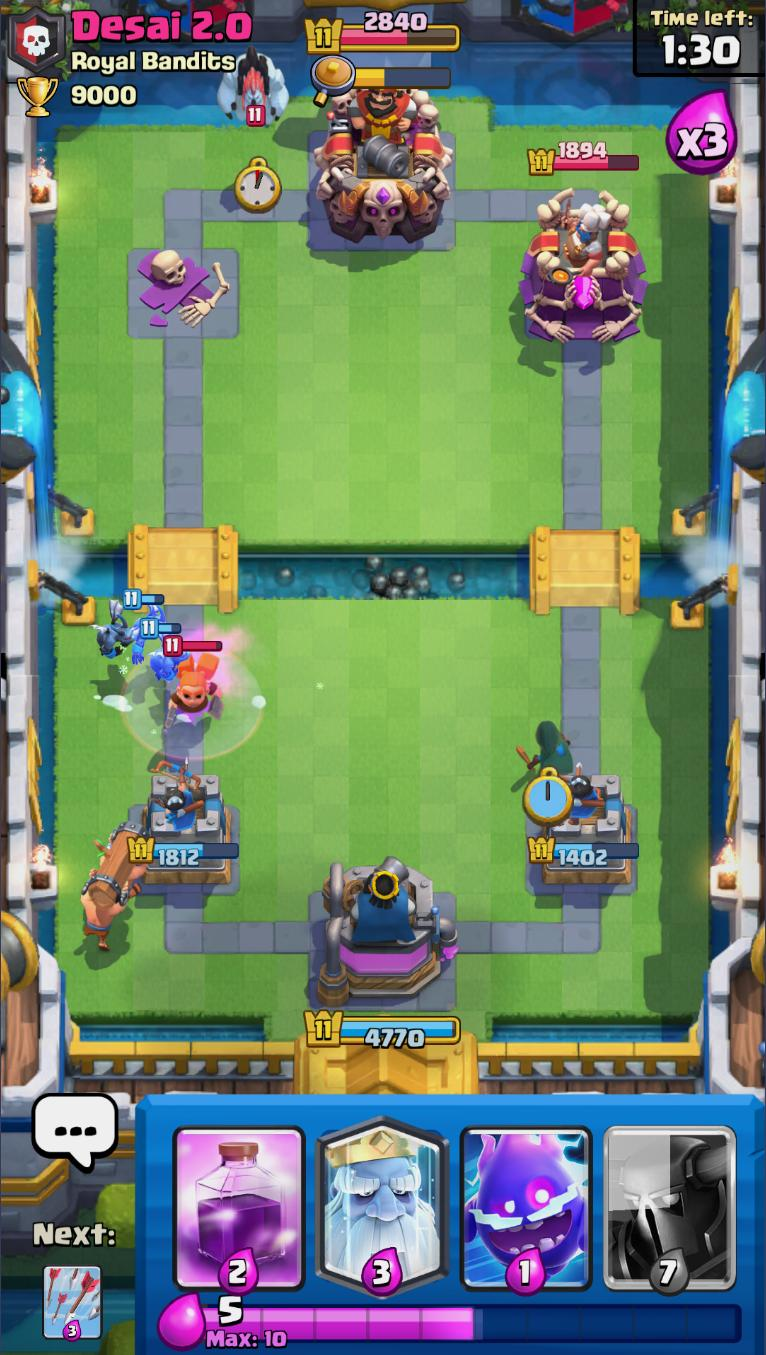ArrowNext: (41, 1264, 103, 1315)
Berserker: (161, 635, 228, 733)
Chef: (553, 198, 616, 277)
ElectroSpiritDeck: (455, 1096, 598, 1295)
Elixir: (204, 1293, 747, 1350)
EnemyTower: (517, 186, 649, 348)
EnemyTowerBrocken: (122, 240, 243, 340)
IceGolem: (215, 47, 290, 121)
KingTower: (312, 82, 455, 245)
KingTowerHP: (303, 9, 463, 56)
MyBandit: (516, 718, 580, 775)
MyBattleRam: (76, 820, 152, 951)
MyKingHP: (300, 1006, 462, 1051)
MyKingTower: (316, 851, 462, 1009)
MyMinion: (123, 587, 169, 666), (139, 618, 189, 684), (89, 598, 138, 661)
MyPrincessTower: (125, 770, 242, 892), (528, 775, 639, 894)
MyPrincessTowerHP: (528, 833, 642, 869), (128, 834, 244, 868)
PekkaDeck: (601, 1096, 741, 1296)
RageDeck: (166, 1095, 313, 1287)
RoyaleGhostDeck: (308, 1098, 451, 1296)
TowerPrincessHP: (527, 140, 643, 179)
